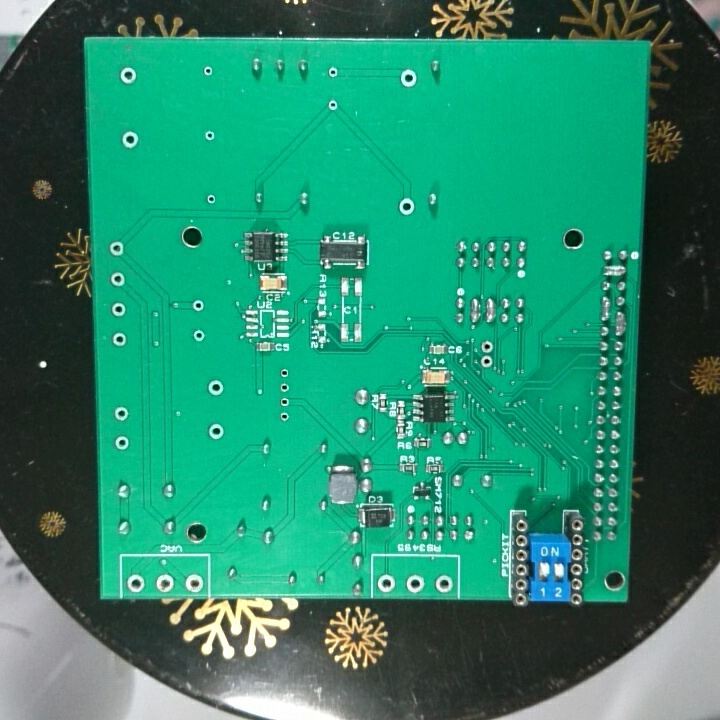F: (397, 66, 422, 91), (374, 571, 397, 595), (182, 572, 205, 595), (395, 195, 418, 218), (125, 572, 147, 595), (205, 376, 227, 399), (432, 572, 454, 594), (154, 572, 176, 594), (404, 572, 425, 595), (117, 65, 139, 86), (118, 129, 140, 150), (205, 420, 225, 443), (105, 238, 127, 258), (111, 403, 131, 424), (108, 330, 130, 349), (112, 434, 131, 454), (108, 269, 126, 289), (109, 300, 127, 319), (191, 327, 208, 345), (325, 63, 341, 82), (191, 298, 207, 316), (325, 97, 341, 115), (479, 338, 495, 355), (277, 380, 294, 396), (201, 126, 217, 143), (277, 365, 294, 380), (200, 63, 215, 80), (479, 355, 496, 369), (203, 192, 218, 206), (277, 395, 293, 408), (277, 410, 291, 424)
P: (599, 262, 629, 280), (613, 309, 628, 338), (467, 295, 481, 326), (597, 293, 612, 321), (484, 295, 497, 325)
